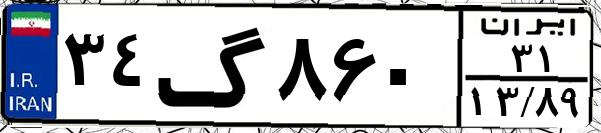0: (385, 28, 445, 110)
1: (537, 27, 568, 80), (470, 70, 495, 125)
3: (57, 26, 110, 100), (508, 27, 537, 80), (495, 70, 520, 125)
4: (110, 28, 156, 98)
6: (330, 28, 385, 110)
8: (270, 28, 330, 110), (535, 70, 560, 125)
9: (560, 70, 590, 125)
گ: (156, 12, 270, 120)
